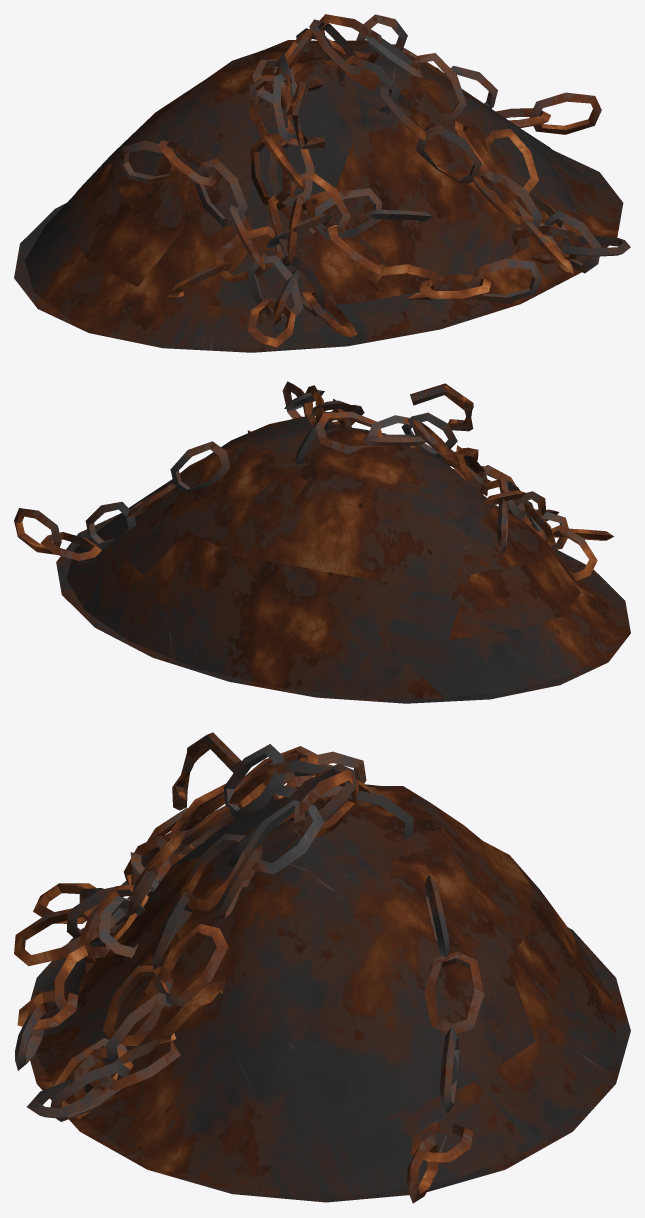
The model's file is Chain_Heap.glb.
3 views of the same model, one above another, from view 1: azimuth 30°, elevation 25°; view 2: azimuth 150°, elevation 25°; view 3: azimuth 270°, elevation 25° (orthographic). The views are drawn at different scales.
Visible parts, largest first — view 1: Chain_Heap; view 2: Chain_Heap; view 3: Chain_Heap.
Boxes of the visible parts, <box> form: Chain_Heap: <box>14,14,630,352</box>; Chain_Heap: <box>14,381,630,703</box>; Chain_Heap: <box>14,732,630,1203</box>.
Bounding box in the file's own units: 1.95 × 0.6733 × 1.39.
Materials: 3 (3 with a texture image).
